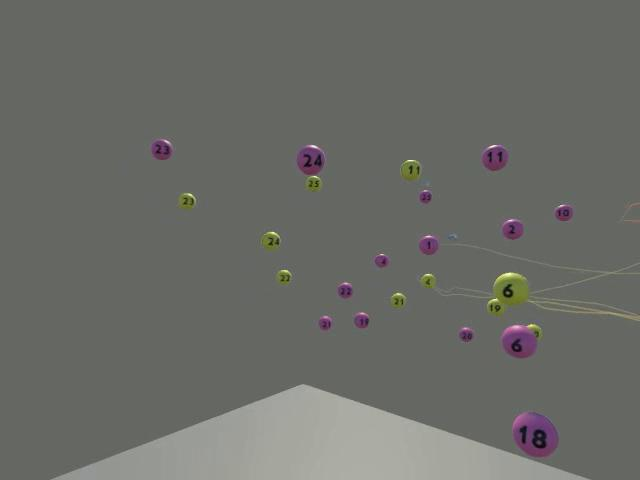ball_01_pink: (418, 235, 438, 254)
ball_02_pink: (501, 218, 523, 239)
ball_04_pink: (374, 253, 388, 267)
ball_04_yellow: (420, 273, 435, 288)
ball_06_pink: (500, 324, 536, 358)
ball_06_yellow: (492, 271, 529, 306)
ball_10_pink: (553, 204, 573, 221)
ball_11_pink: (481, 144, 508, 170)
ball_11_yellow: (400, 159, 421, 180)
ball_18_pink: (511, 412, 559, 458)
ball_19_pink: (353, 311, 369, 328)
ball_20_pink: (458, 326, 473, 342)
ball_21_pink: (318, 315, 331, 330)
ball_21_yellow: (390, 292, 406, 308)
ball_22_pink: (337, 282, 352, 298)
ball_22_yellow: (275, 269, 291, 284)
ball_23_pink: (150, 138, 173, 160)
ball_23_yellow: (178, 192, 195, 208)
ball_24_pink: (296, 144, 325, 175)
ball_24_yellow: (260, 231, 280, 249)
ball_25_pink: (418, 189, 431, 203)
ball_25_yellow: (305, 175, 322, 191)
ball_unknown: (486, 298, 505, 315), (526, 323, 542, 340)
